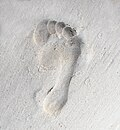human_foot_print: (33, 20, 80, 114)
